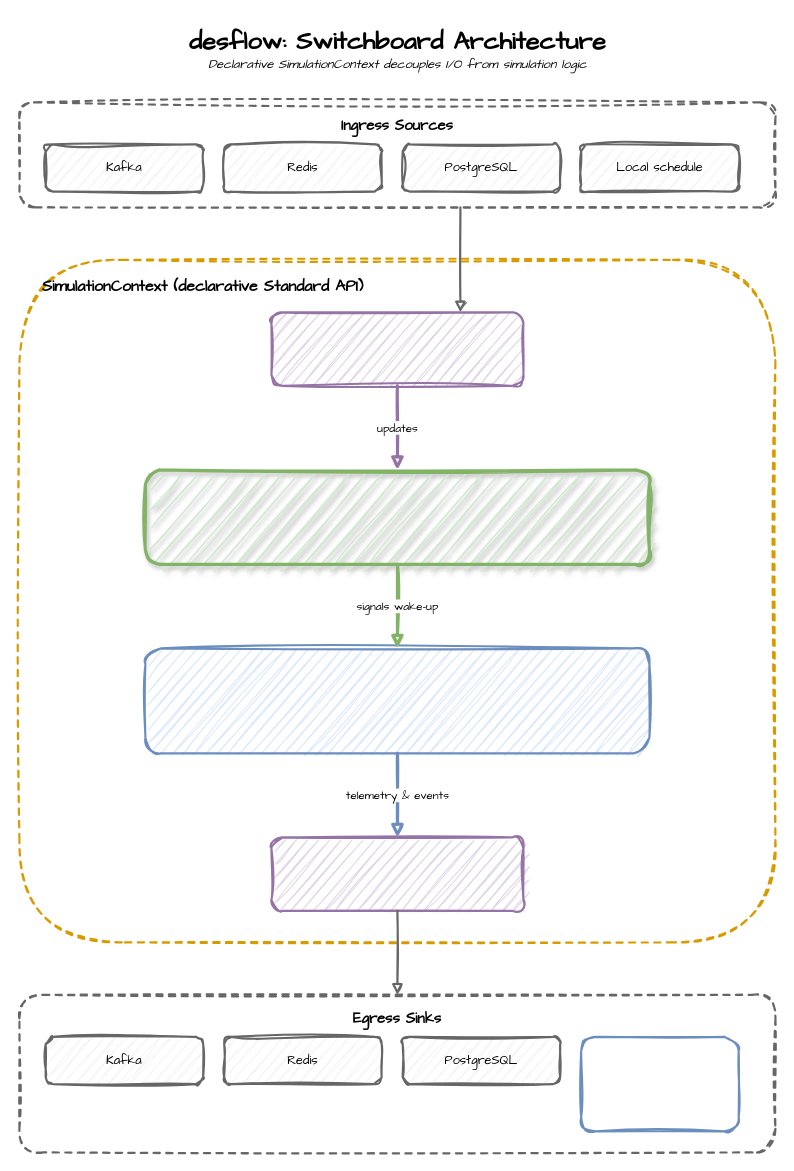
The diagram is 794 pixels wide and 1171 high, and some of its shapes have lost their labels. Here are the shapes that lost their labels. From the top down, the centre of each, then its label:
At pixel 397 348: "Ingress Connectors background I/O threads".
At pixel 398 518: "Registry (Switchboard) central state, dot-notation paths".
At pixel 397 700: "SimPy Resources DynamicResource passive observers, event-driven capacity".
At pixel 397 873: "Egress Connectors batched, orjson".
At pixel 659 1083: "Data Lake Parquet / JSONL S3, GCS, Azure, SeaweedFS".
